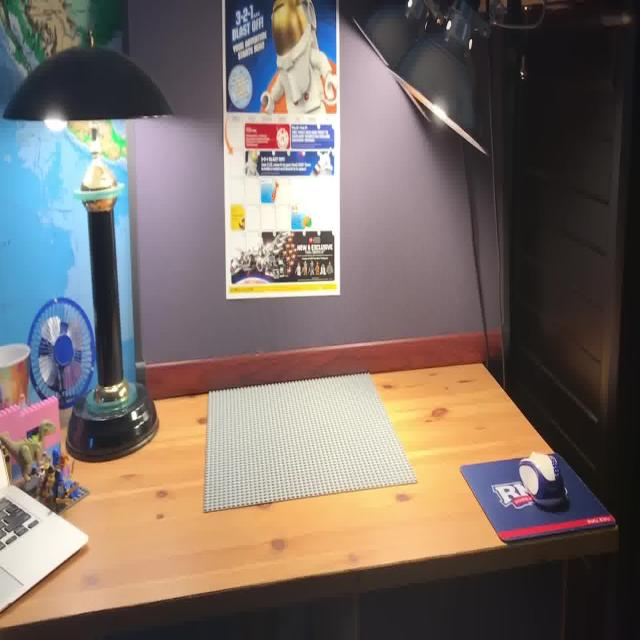brick: (0, 414, 59, 475)
figure: (206, 369, 415, 506), (2, 389, 63, 459)
